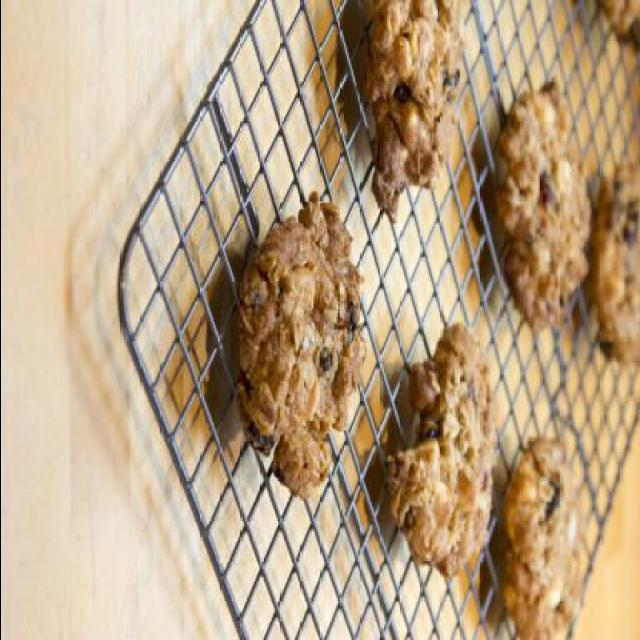Cookie: (230, 197, 366, 485), (382, 326, 498, 580), (498, 75, 594, 332), (362, 0, 466, 226), (502, 433, 584, 639), (591, 162, 640, 374), (596, 0, 640, 49)
